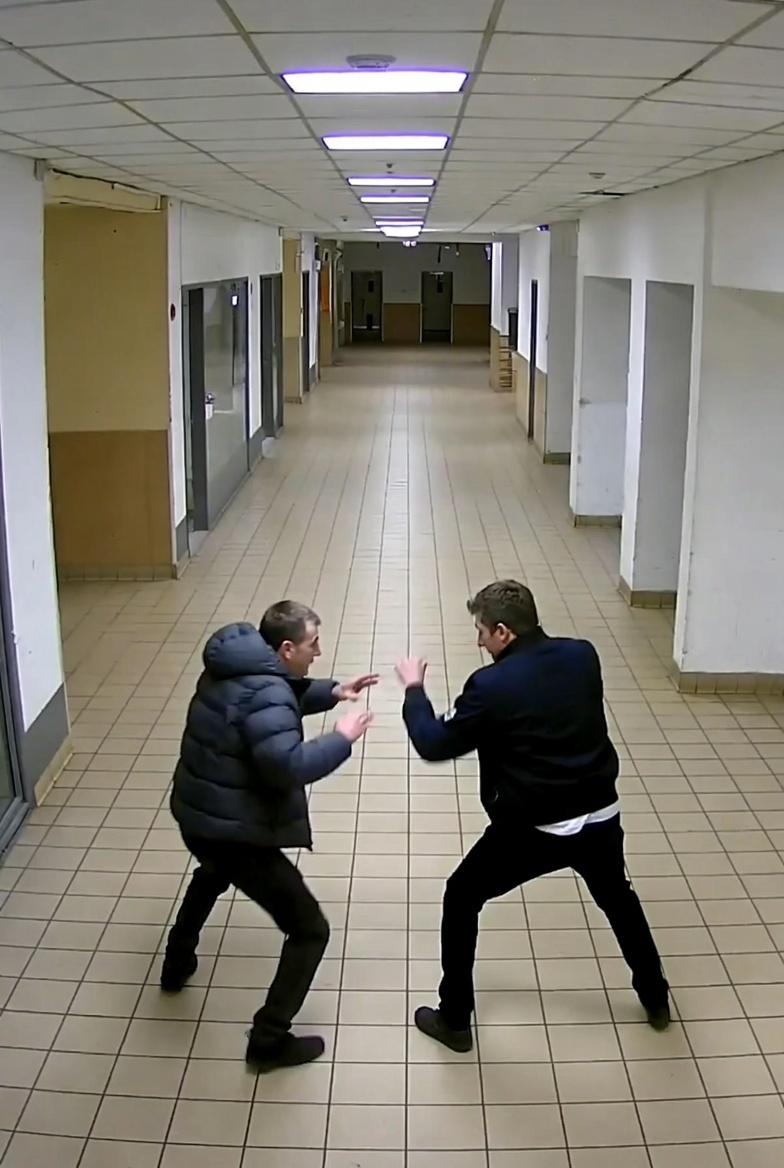Assault: (159, 601, 380, 1073)
Fighting: (394, 578, 675, 1055)
